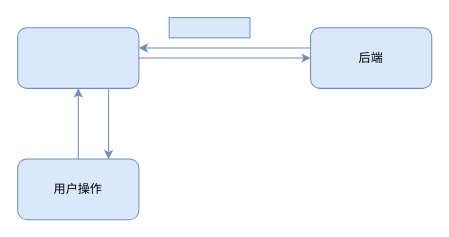
Some shapes in this 449 by 237 pixel diagram are drawn without their labels. Each missing label, with the centre of its shape:
"TCP/IP协议" goes at (209,27).
"安卓app" goes at (78,57).
